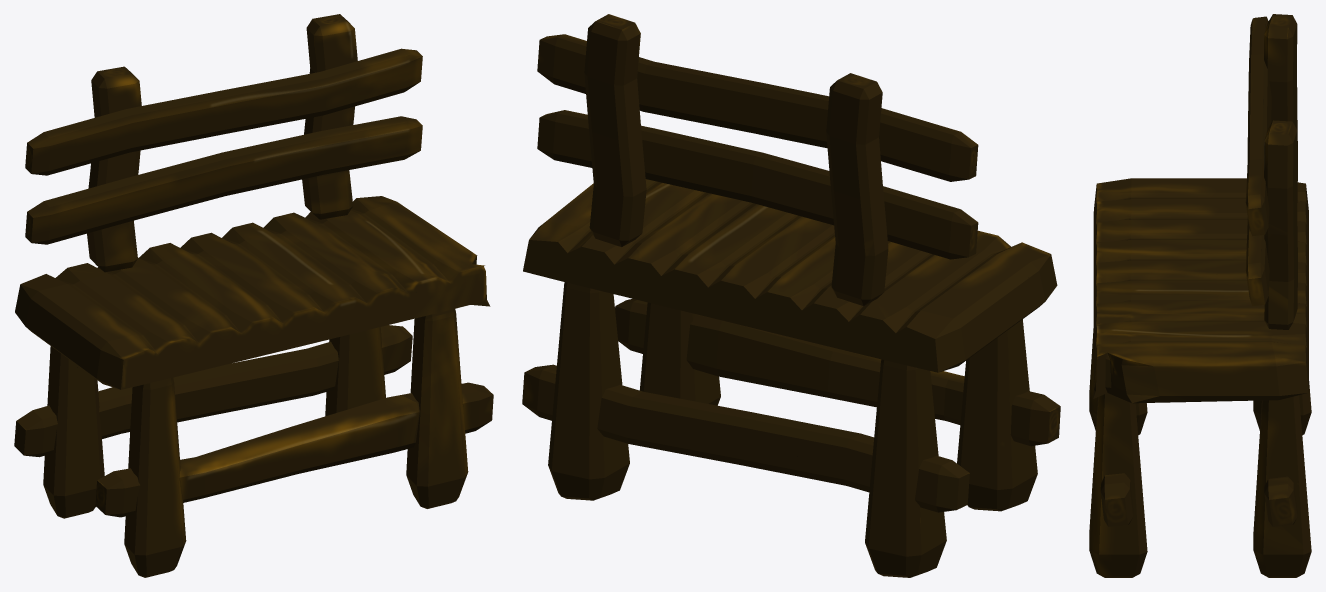
The model's file is WorkBench-1.glb.
3 views of the same model, side by side, from view 1: azimuth 30°, elevation 25°; view 2: azimuth 150°, elevation 25°; view 3: azimuth 270°, elevation 25° (orthographic). The views are drawn at different scales.
Visible parts, largest first — view 1: Cube.630; view 2: Cube.630; view 3: Cube.630.
Part boxes in pixels (x1,y1,x2,y2): Cube.630: (14,14,493,577); Cube.630: (522,14,1060,577); Cube.630: (1089,14,1311,577).
Size of the model in its own units: 1.16 by 1.23 by 0.5711.
Materials: 1 (1 with a texture image).
